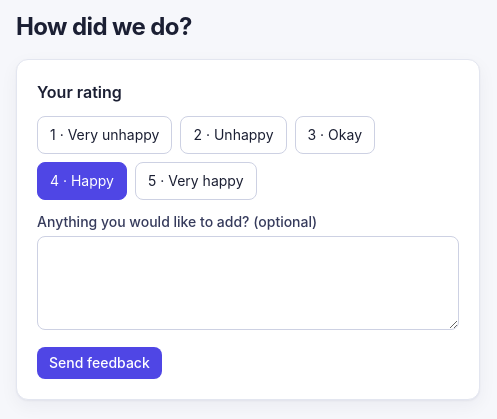
Test: satisfaction page › preselects the rating from the link and records it only after confirmation
This screenshot has width=497, height=419.
In the text box labelled "Anything you would like to add? (optional)": (248, 283) [37, 236, 459, 330], type "Thanks"
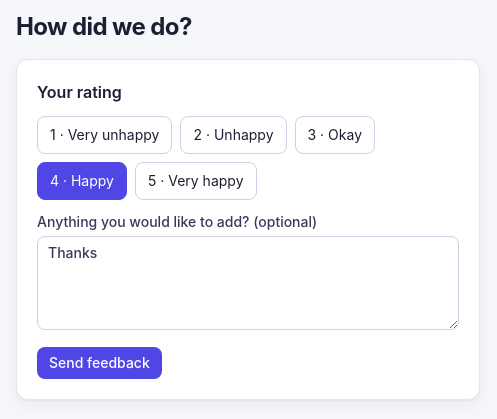
Click the button "Send feedback": (99, 363) [37, 347, 162, 379]
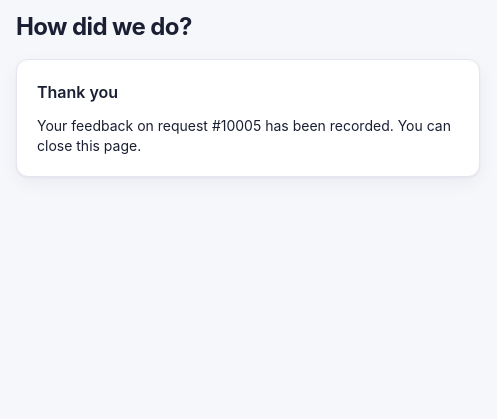
Now the text "request #10005" is shown, box [37, 116, 459, 156]
